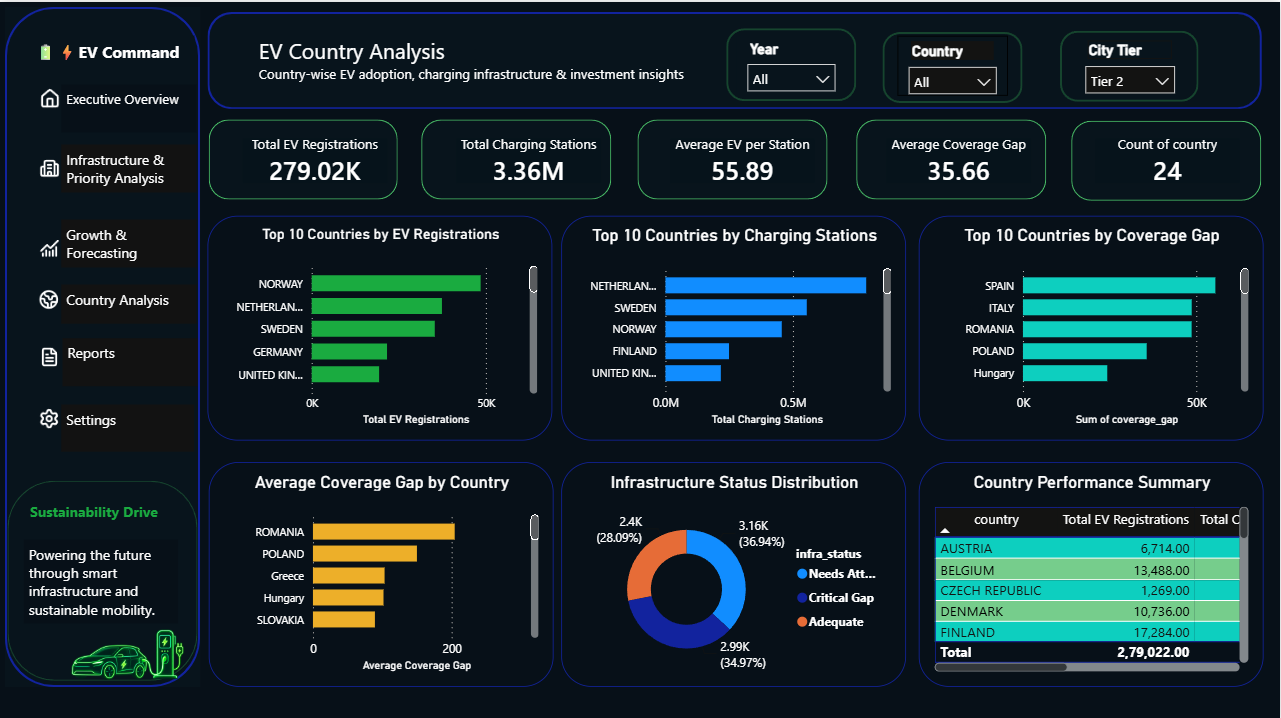

The page's visual inventory and layout, read from the dashboard file:
{"tool":"powerbi","page":{"name":"4.Country Analysis","canvas":[1280,720],"ordinal":3},"visuals":[{"type":"slicer","fields":{"Values":["ev_charging_analysis ev_data.country"]},"box":[963.8,28.8,115,66.2],"z":0},{"type":"shape","box":[4.4,5.6,195,680],"z":1000},{"type":"textbox","box":[20,34.2,174,38.3],"z":2000},{"type":"textbox","box":[60.7,142.1,135,48],"z":3000},{"type":"textbox","box":[60.7,217.1,135,48],"z":4000},{"type":"textbox","box":[60.7,282.9,135,39],"z":5000},{"type":"textbox","box":[63,335.8,135,48],"z":6000},{"type":"textbox","box":[60.7,402.9,133,47],"z":7000},{"type":"image","box":[38.6,86.4,22.1,20.7],"z":8000},{"type":"image","box":[38.6,236.4,21,20],"z":9000},{"type":"image","box":[38.6,156.4,21,20],"z":10000},{"type":"image","box":[38.6,287.1,20.7,20],"z":11000},{"type":"image","box":[38.6,345,21,20],"z":12000},{"type":"image","box":[38.6,406.4,20.7,20.7],"z":13000},{"type":"textbox","box":[60.7,82.9,135,48],"z":14000},{"type":"shape","box":[7.8,478.9,190,200],"z":15000},{"type":"image","box":[60,612.2,128.9,84.4],"z":16000},{"type":"textbox","box":[24.4,495.6,154.4,34.4],"z":17000},{"type":"textbox","box":[24.2,537.5,154.3,84.3],"z":18000},{"type":"shape","box":[207,10,1054.3,97.1],"z":19000},{"type":"textbox","box":[253.5,28.3,527.5,69.5],"z":20000},{"type":"shape","box":[725.7,25.7,130,72.9],"z":21000},{"type":"shape","box":[882.9,30,140,71],"z":22000},{"type":"shape","box":[1060,28.6,138.6,71],"z":23000},{"type":"slicer","fields":{"Values":["ev_charging_analysis ev_data.year"]},"box":[735.8,32.5,110,60],"z":24000},{"type":"slicer","fields":{"Values":["ev_charging_analysis ev_data.country"]},"box":[897.5,34.2,110,60],"z":25000},{"type":"slicer","fields":{"Values":["ev_charging_analysis ev_data.city_tier"]},"box":[1075,34.2,110,60],"z":26000},{"type":"shape","box":[421.4,117.1,190,80],"z":27000},{"type":"shape","box":[637.1,117.1,190,80],"z":28000},{"type":"shape","box":[855.7,117.1,190,80],"z":29000},{"type":"shape","box":[1071.4,118.6,190,80],"z":30000},{"type":"shape","box":[209,117.1,189,80],"z":31000},{"type":"cardVisual","fields":{"Data":["ev_charging_analysis ev_data.Total EV Registrations"]},"box":[237.8,131.1,155,55],"z":32000},{"type":"cardVisual","fields":{"Data":["Count(ev_charging_analysis ev_data.country)"]},"box":[1090,131.1,155,55],"z":33000},{"type":"cardVisual","fields":{"Data":["ev_charging_analysis ev_data.Total Charging Stations"]},"box":[451.1,131.1,155,55],"z":34000},{"type":"cardVisual","fields":{"Data":["ev_charging_analysis ev_data.Average EV per Station"]},"box":[664.4,131.1,155,55],"z":35000},{"type":"cardVisual","fields":{"Data":["ev_charging_analysis ev_data.Average Coverage Gap"]},"box":[881.1,131.1,155,55],"z":36000},{"type":"clusteredBarChart","title":"Top 10 Countries by EV Registrations","fields":{"Category":["ev_charging_analysis ev_data.country"],"Y":["ev_charging_analysis ev_data.Total EV Registrations"]},"box":[207,214.3,345,225],"z":37000},{"type":"clusteredBarChart","title":"Top 10 Countries by Charging Stations","fields":{"Category":["ev_charging_analysis ev_data.country"],"Y":["ev_charging_analysis ev_data.Total Charging Stations"]},"box":[561,214.3,345,225],"z":38000},{"type":"clusteredBarChart","title":"Top 10 Countries by Coverage Gap","fields":{"Category":["ev_charging_analysis ev_data.country"],"Y":["Sum(ev_charging_analysis ev_data.coverage_gap)"]},"box":[919,214.3,345,225],"z":39000},{"type":"clusteredBarChart","title":"Average Coverage Gap by Country","fields":{"Category":["ev_charging_analysis ev_data.country"],"Y":["ev_charging_analysis ev_data.Average Coverage Gap"]},"box":[208.6,460,345,225],"z":40000},{"type":"donutChart","title":"Infrastructure Status Distribution","fields":{"Category":["ev_charging_analysis ev_data.infra_status"],"Y":["CountNonNull(ev_charging_analysis ev_data.country)"]},"box":[561,460,345,225],"z":41000},{"type":"tableEx","title":"Country Performance Summary","fields":{"Values":["ev_charging_analysis ev_data.country","ev_charging_analysis ev_data.Total EV Registrations","ev_charging_analysis ev_data.Total Charging Stations","ev_charging_analysis ev_data.Average EV per Station","ev_charging_analysis ev_data.Average Coverage Gap"]},"box":[918.6,460,345,225],"z":42000}]}

Visuals, with their boxes on the page's 1280x720 design canvas (x1, y1, x2, y2). These are canvas units, not pixel positions in the 1281x718 screenshot, which may show the page scaled, cropped or inside an application window:
slicer - ev_charging_analysis ev_data.country: <bbox>964, 29, 1079, 95</bbox>
shape: <bbox>4, 6, 199, 686</bbox>
textbox: <bbox>20, 34, 194, 72</bbox>
textbox: <bbox>61, 142, 196, 190</bbox>
textbox: <bbox>61, 217, 196, 265</bbox>
textbox: <bbox>61, 283, 196, 322</bbox>
textbox: <bbox>63, 336, 198, 384</bbox>
textbox: <bbox>61, 403, 194, 450</bbox>
image: <bbox>39, 86, 61, 107</bbox>
image: <bbox>39, 236, 60, 256</bbox>
image: <bbox>39, 156, 60, 176</bbox>
image: <bbox>39, 287, 59, 307</bbox>
image: <bbox>39, 345, 60, 365</bbox>
image: <bbox>39, 406, 59, 427</bbox>
textbox: <bbox>61, 83, 196, 131</bbox>
shape: <bbox>8, 479, 198, 679</bbox>
image: <bbox>60, 612, 189, 697</bbox>
textbox: <bbox>24, 496, 179, 530</bbox>
textbox: <bbox>24, 538, 178, 622</bbox>
shape: <bbox>207, 10, 1261, 107</bbox>
textbox: <bbox>254, 28, 781, 98</bbox>
shape: <bbox>726, 26, 856, 99</bbox>
shape: <bbox>883, 30, 1023, 101</bbox>
shape: <bbox>1060, 29, 1199, 100</bbox>
slicer - ev_charging_analysis ev_data.year: <bbox>736, 32, 846, 92</bbox>
slicer - ev_charging_analysis ev_data.country: <bbox>898, 34, 1008, 94</bbox>
slicer - ev_charging_analysis ev_data.city_tier: <bbox>1075, 34, 1185, 94</bbox>
shape: <bbox>421, 117, 611, 197</bbox>
shape: <bbox>637, 117, 827, 197</bbox>
shape: <bbox>856, 117, 1046, 197</bbox>
shape: <bbox>1071, 119, 1261, 199</bbox>
shape: <bbox>209, 117, 398, 197</bbox>
cardVisual - ev_charging_analysis ev_data.Total EV Registrations: <bbox>238, 131, 393, 186</bbox>
cardVisual - Count(ev_charging_analysis ev_data.country): <bbox>1090, 131, 1245, 186</bbox>
cardVisual - ev_charging_analysis ev_data.Total Charging Stations: <bbox>451, 131, 606, 186</bbox>
cardVisual - ev_charging_analysis ev_data.Average EV per Station: <bbox>664, 131, 819, 186</bbox>
cardVisual - ev_charging_analysis ev_data.Average Coverage Gap: <bbox>881, 131, 1036, 186</bbox>
"Top 10 Countries by EV Registrations" clusteredBarChart: <bbox>207, 214, 552, 439</bbox>
"Top 10 Countries by Charging Stations" clusteredBarChart: <bbox>561, 214, 906, 439</bbox>
"Top 10 Countries by Coverage Gap" clusteredBarChart: <bbox>919, 214, 1264, 439</bbox>
"Average Coverage Gap by Country" clusteredBarChart: <bbox>209, 460, 554, 685</bbox>
"Infrastructure Status Distribution" donutChart: <bbox>561, 460, 906, 685</bbox>
"Country Performance Summary" tableEx: <bbox>919, 460, 1264, 685</bbox>
